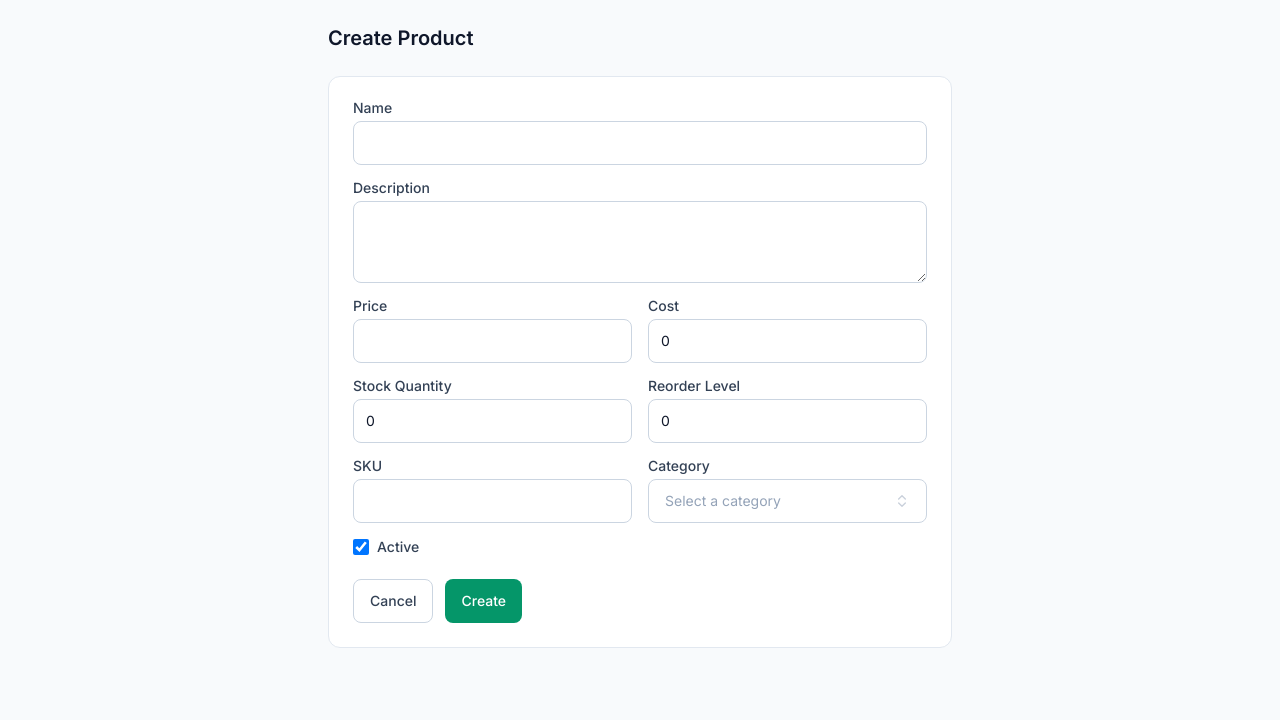
Test: ProductCreatePage › shows price validation error for negative value
Step 1. Type "Widget" into the field labelled "Name" → (640, 143), box [353, 121, 927, 165]
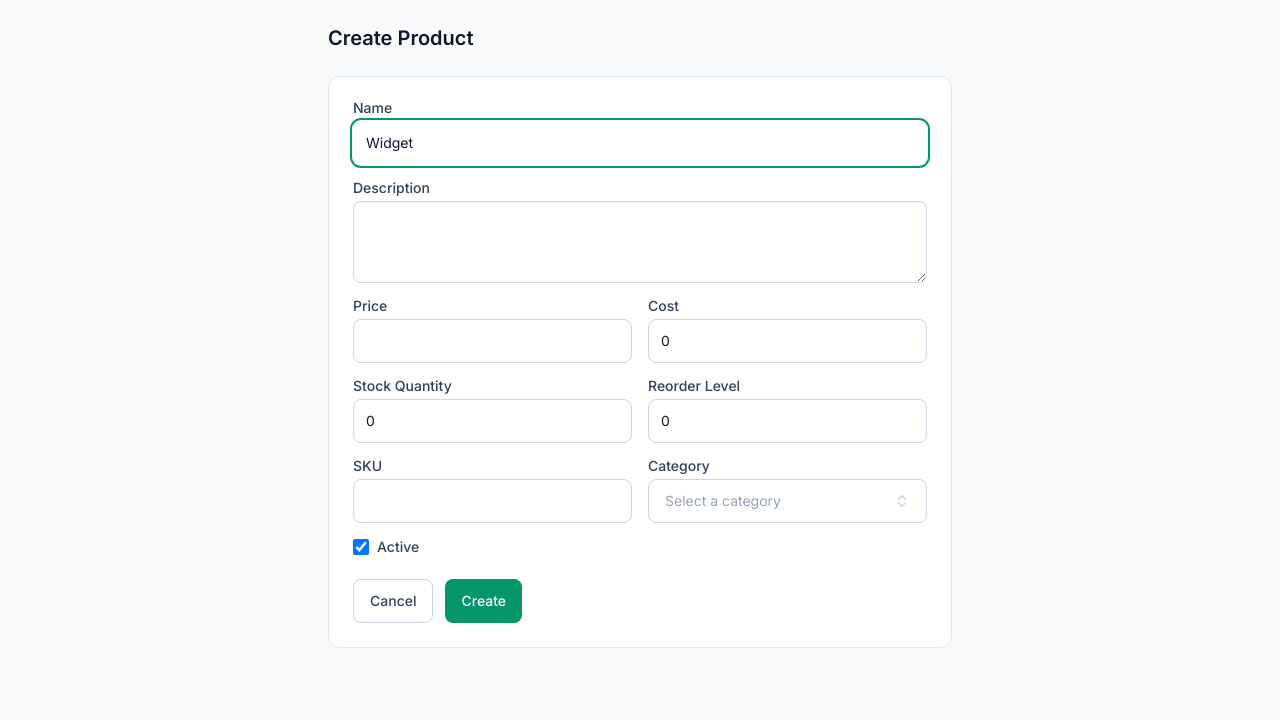
Step 2. Type "-5" into the number field labelled "Price" → (492, 341), box [353, 319, 632, 363]
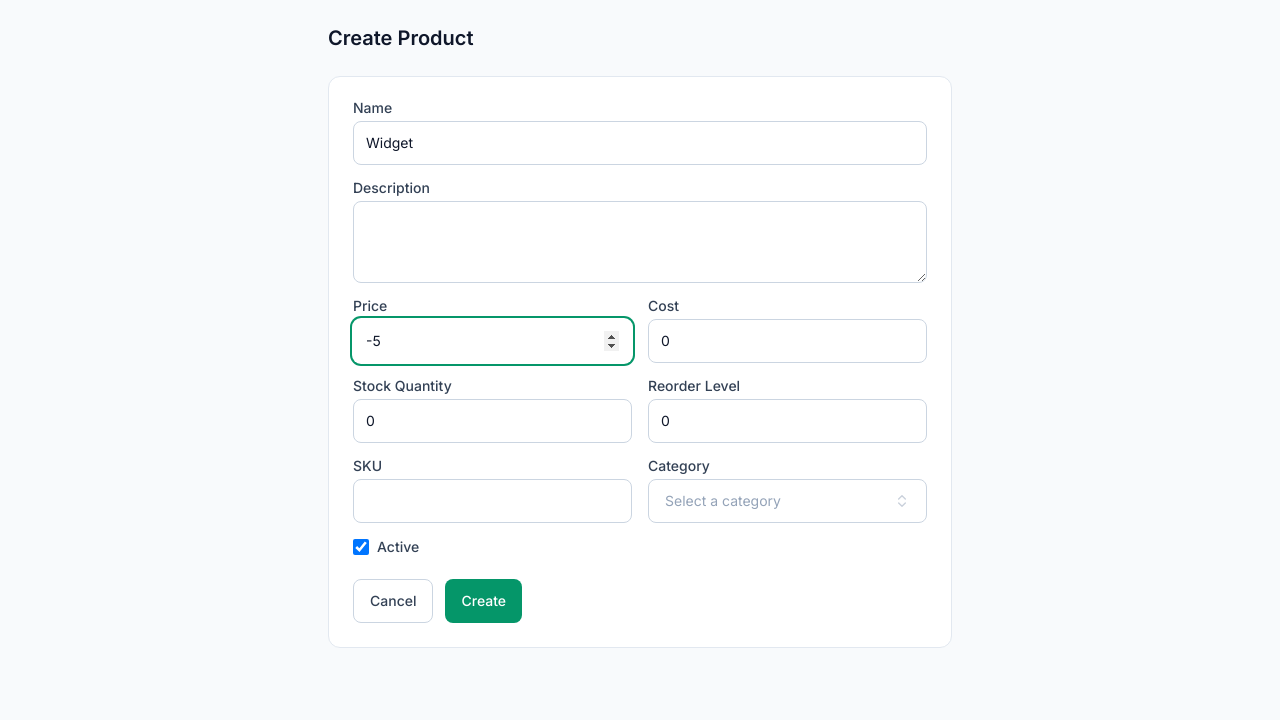
Step 3. Type "WGT-001" into the field labelled "SKU" → (492, 501), box [353, 479, 632, 523]
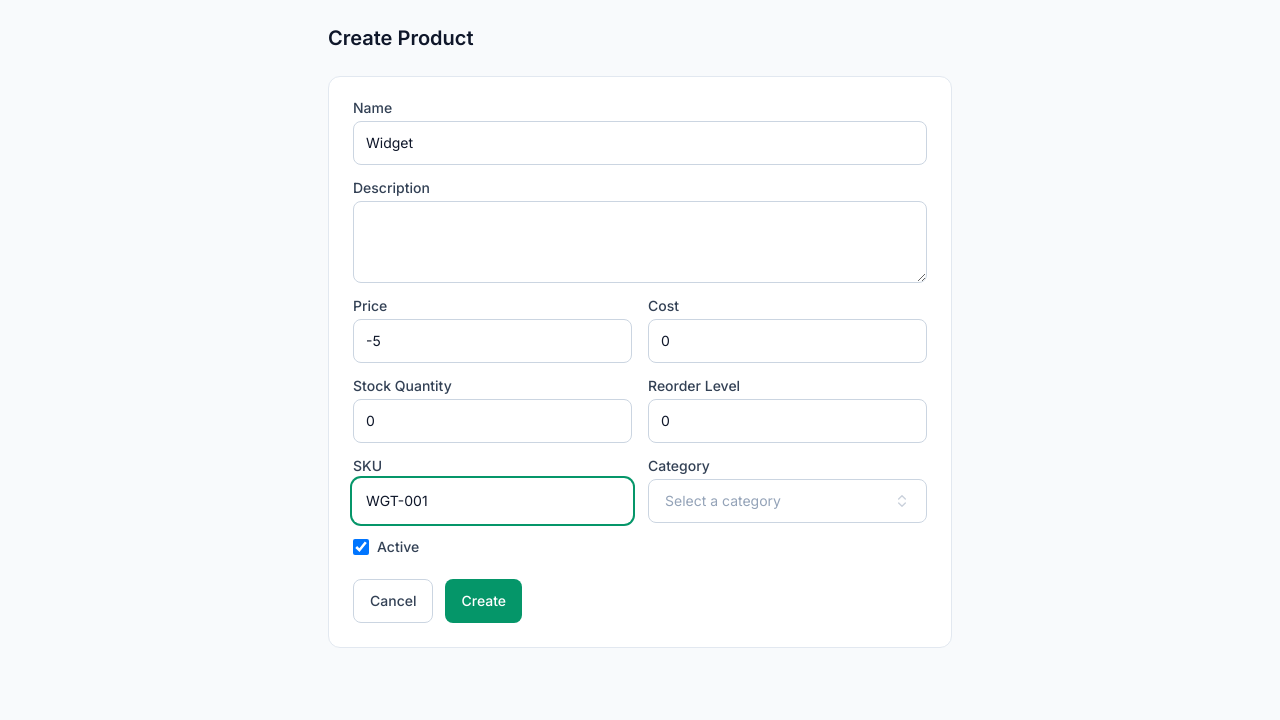
Step 4. Click the dropdown labelled "Select a category" → (723, 500), box [648, 479, 927, 523]
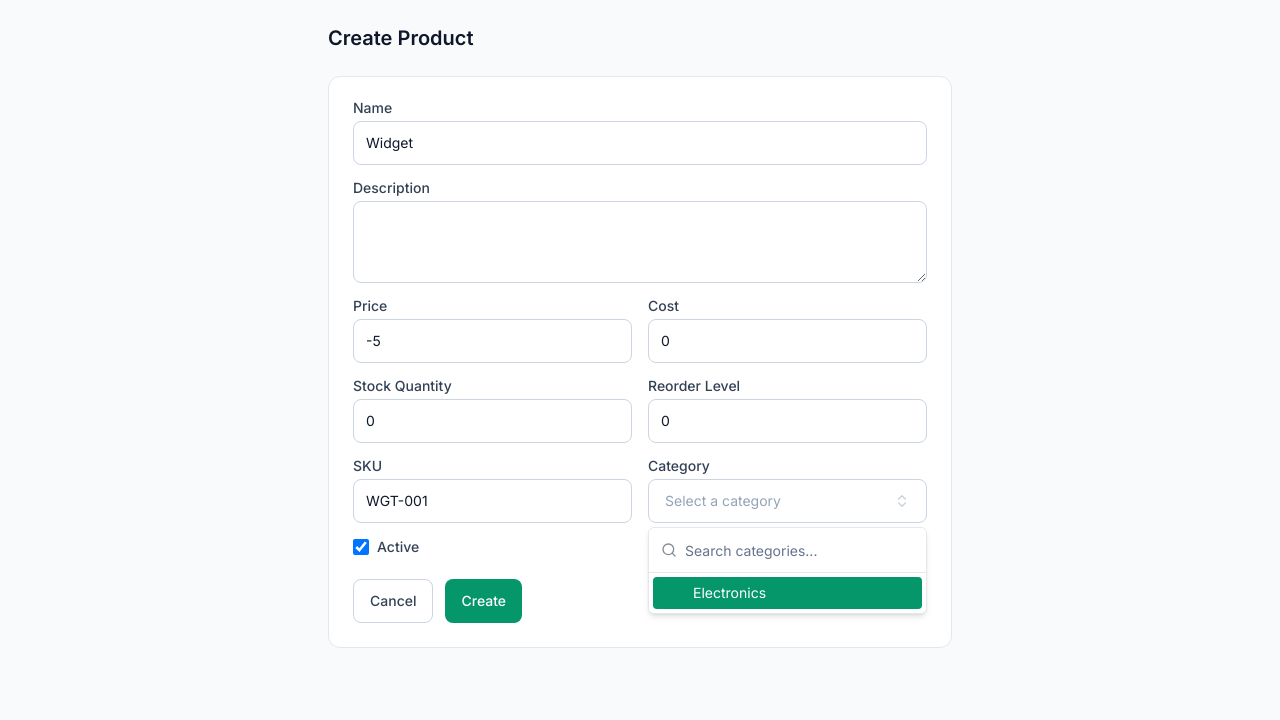
Step 5. Click the option "Electronics" → (730, 592), box [653, 577, 922, 609]
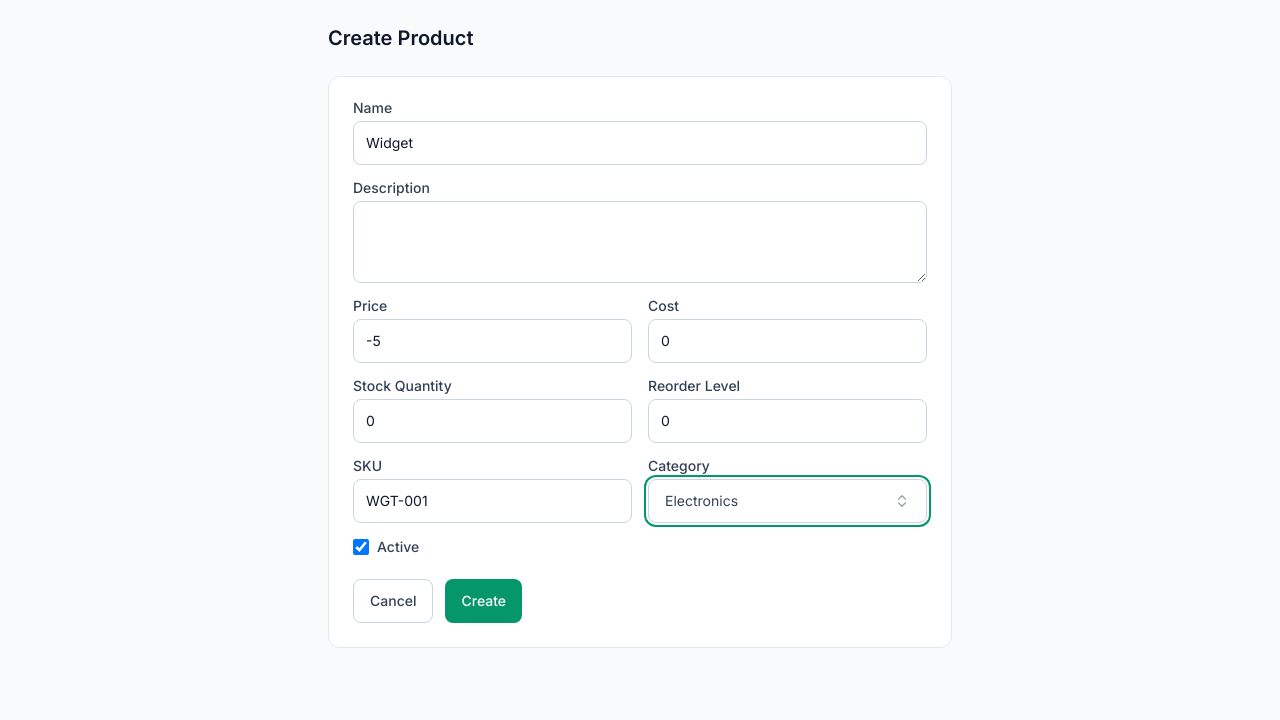
Step 6. Click the button "Create" → (484, 601), box [446, 579, 522, 623]
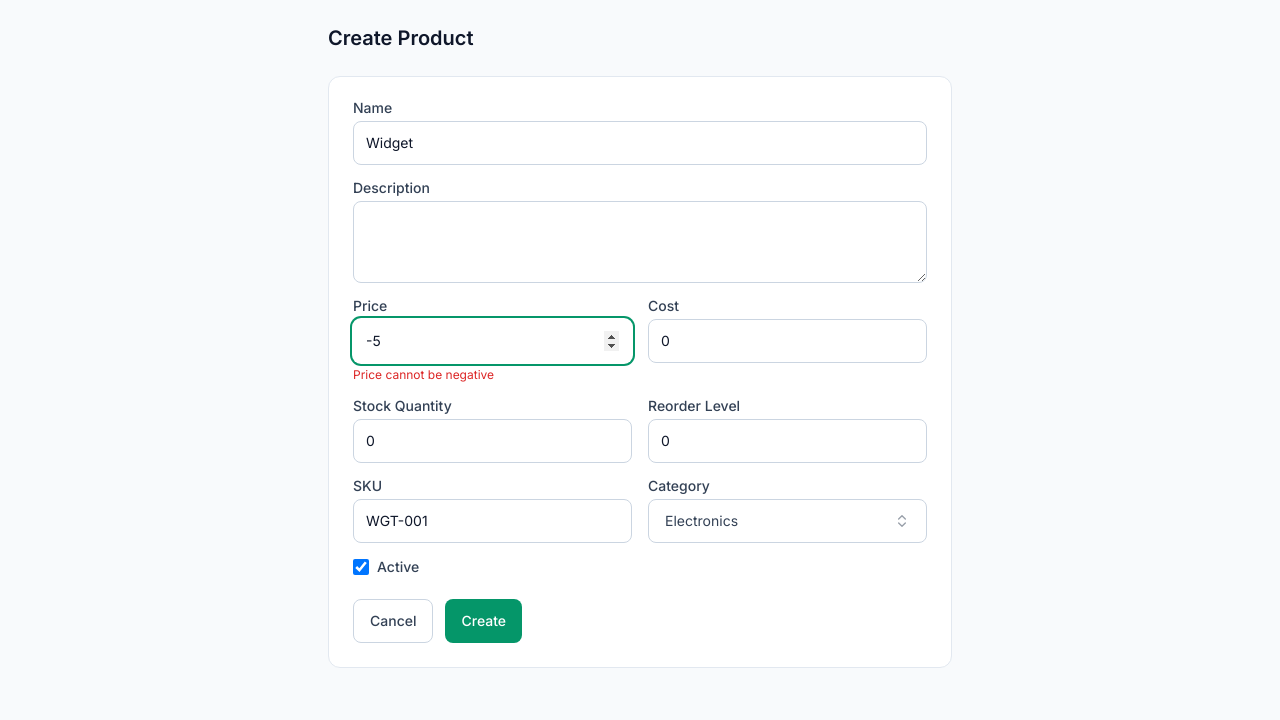
expect the text "Price cannot be negative" is shown: met, box [353, 367, 494, 382]
